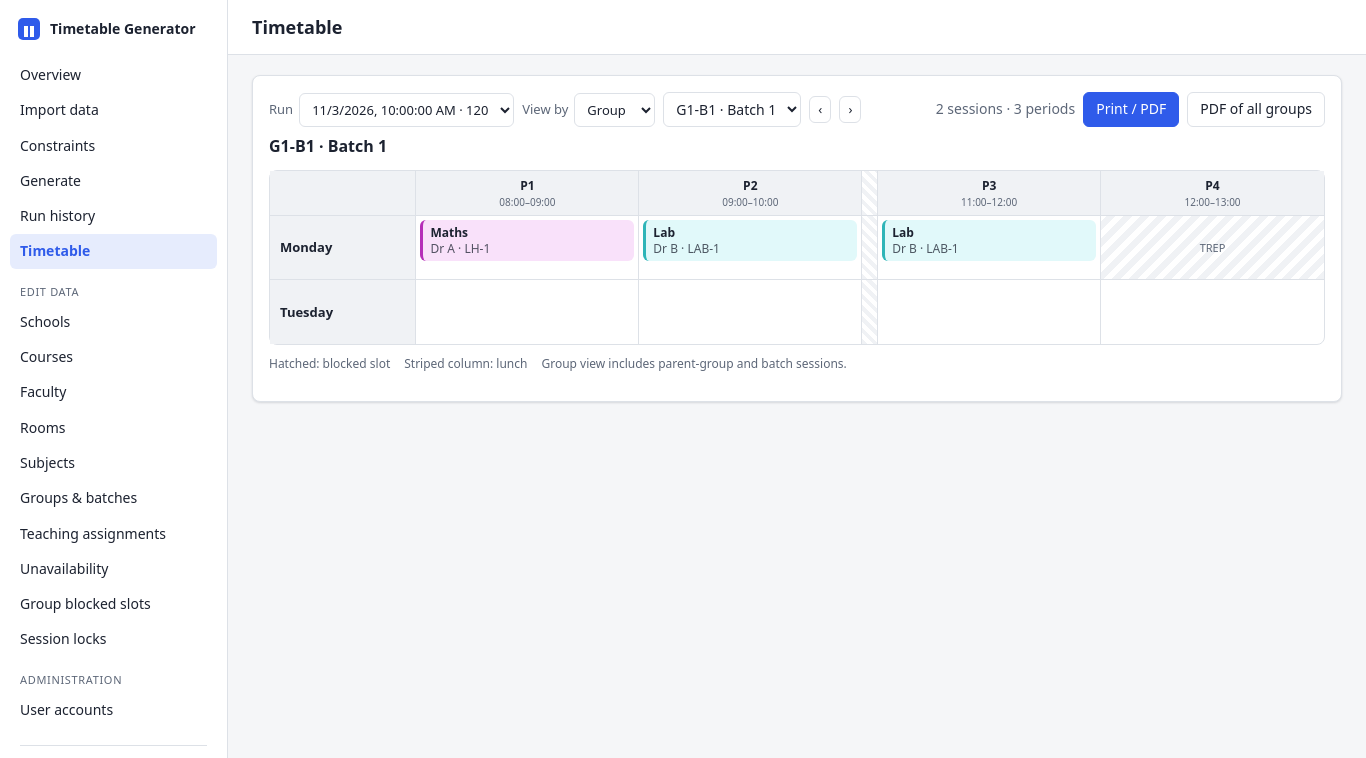
Test: timetable page › renders the grid for a batch including parent sessions
This screenshot has width=1366, height=758.
Expected: the heading "G1-B1 · Batch 1" is shown, [269,135,387,157]
Expected: the text "Maths" is shown, [430,224,468,241]
Select "Faculty" in the dropdown labelled "View by" at (615, 110), box [574,93,655,127]
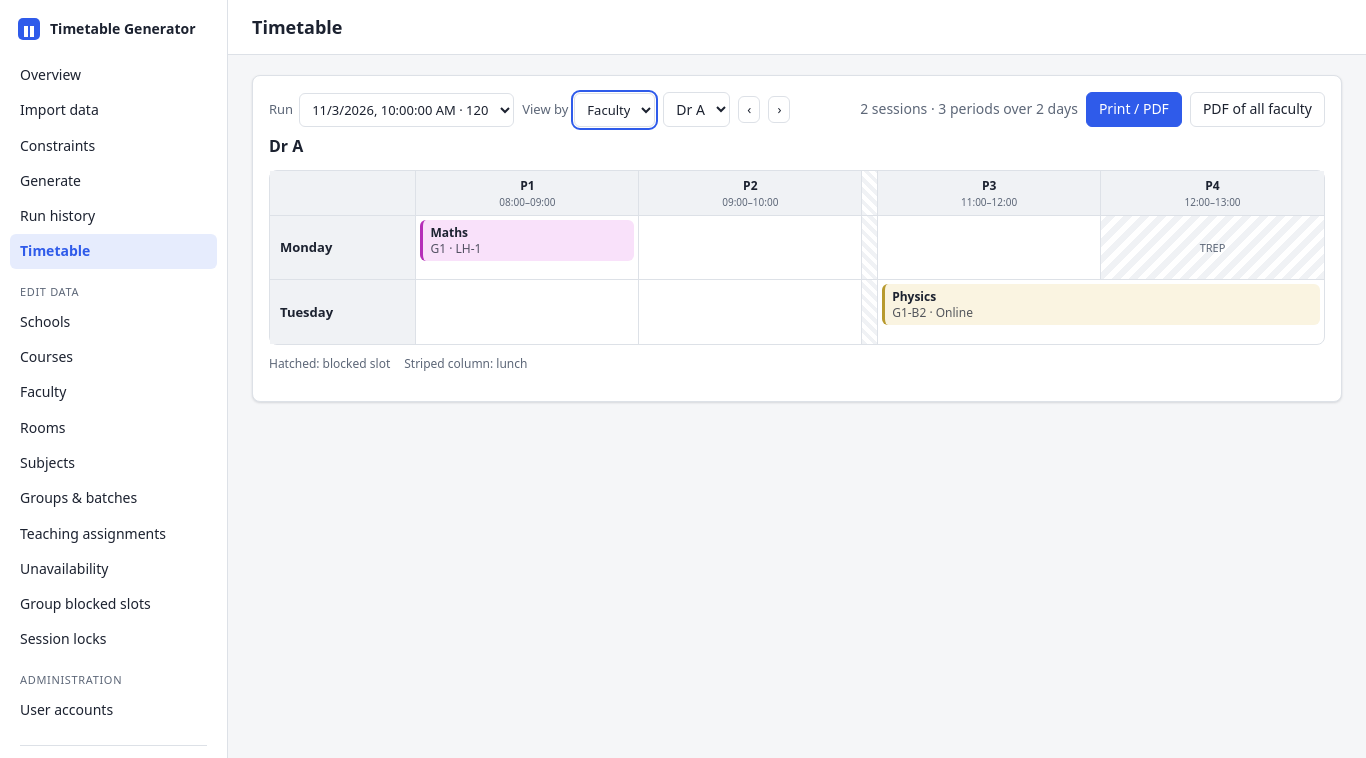
Expected: the heading "Dr A" is shown, [269,135,303,157]
Expected: the text "Physics" is shown, [892,288,936,305]
